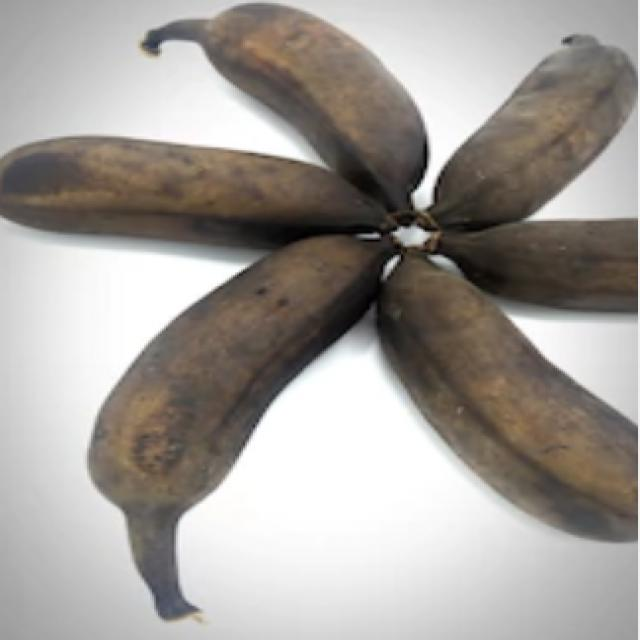rotten-banana: (381, 267, 637, 548), (86, 246, 310, 547), (426, 45, 622, 218), (0, 140, 339, 236), (232, 16, 428, 169), (428, 230, 640, 306)
